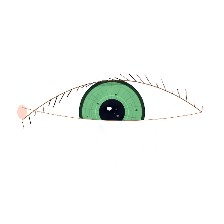foreign_body_visible: (62, 118, 112, 157)
